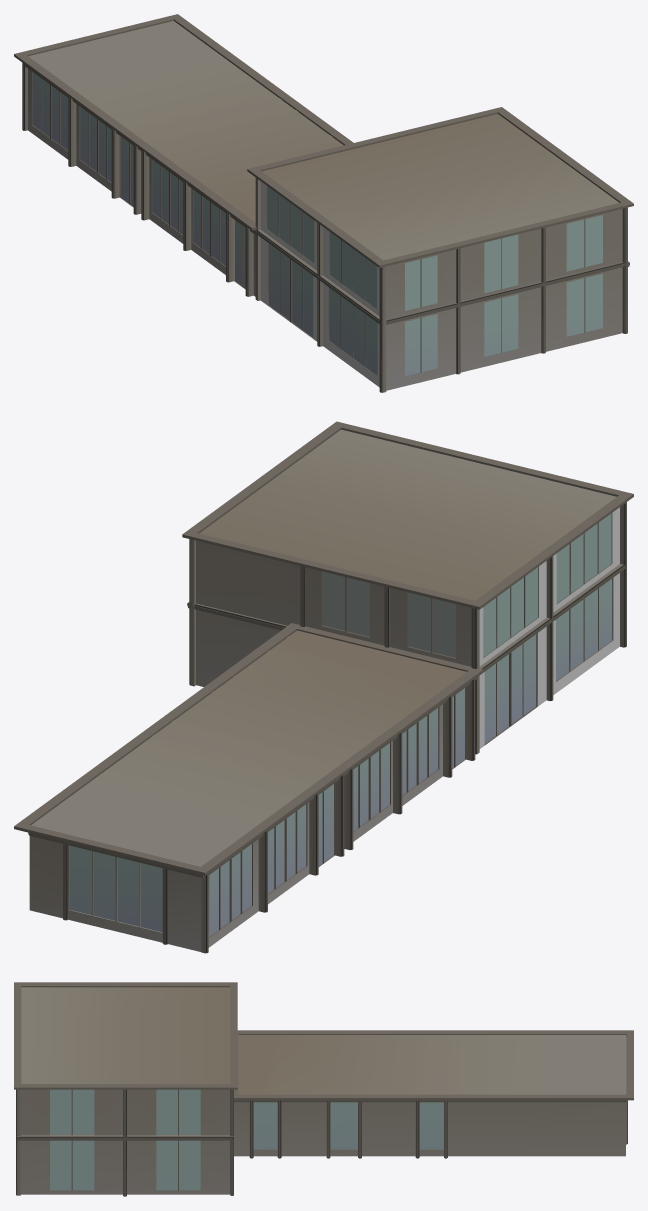
File: Shop.fbx
The picture shows the model from 3 angles, top to bottom: view 1: azimuth 30°, elevation 25°; view 2: azimuth 150°, elevation 25°; view 3: azimuth 270°, elevation 25°; orthographic projection. The views are drawn at different scales.
Visible parts, largest first — view 1: Plane.004; view 2: Plane.004; view 3: Plane.004.
Part boxes in pixels (x1,y1,x2,y2): Plane.004: [14, 14, 633, 392]; Plane.004: [14, 421, 633, 953]; Plane.004: [14, 982, 633, 1196].
Bounding box in the file's own units: 3356 × 1634 × 8364.
